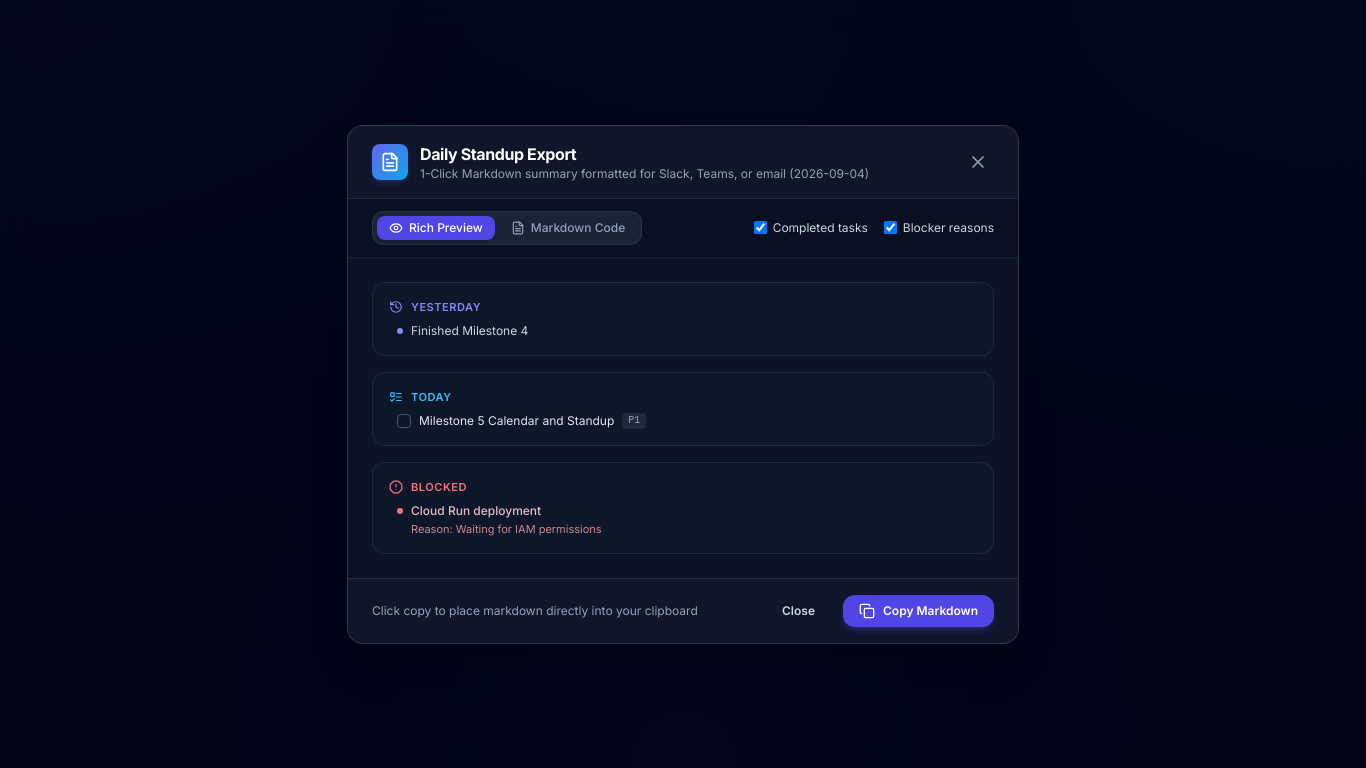
Test: StandupExportModal Component › switches between Rich Preview and Markdown Code tabs
Click the button with test id "standup-tab-source": (568, 228) [499,216,637,240]
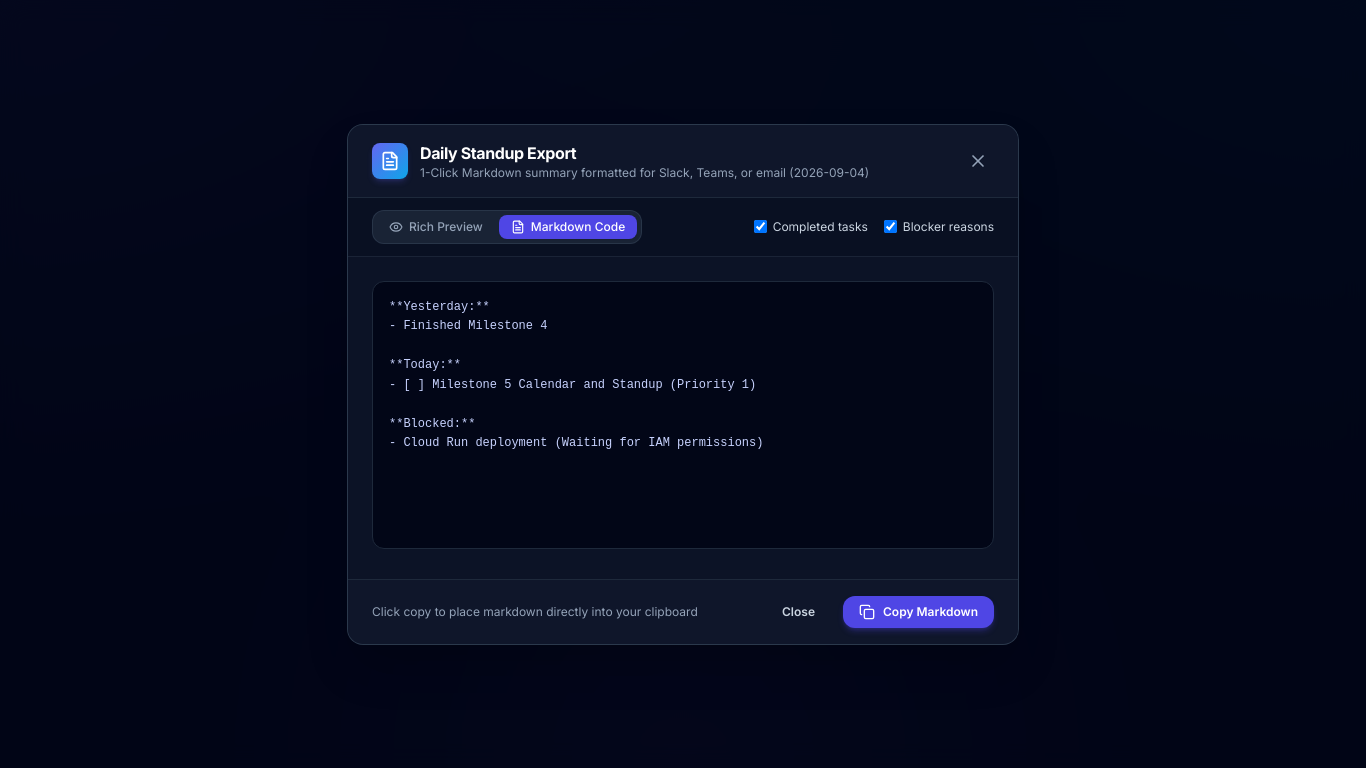
Check: the text box with test id "standup-markdown-textarea" is shown, box [372,280,994,548]
